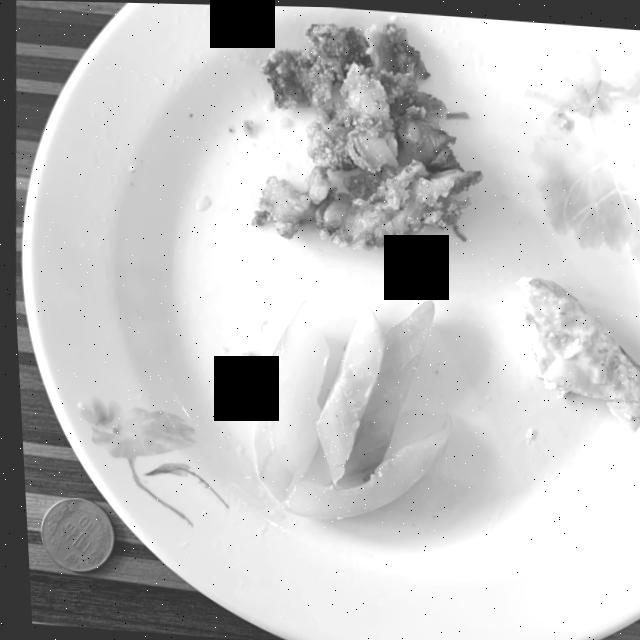coin: (35, 498, 109, 572)
red grilled pork: (250, 19, 480, 249)
